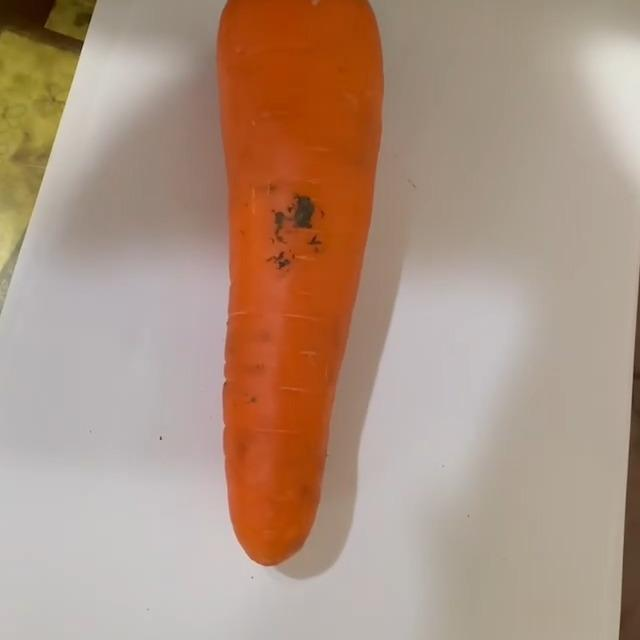carrot: (210, 1, 388, 573)
